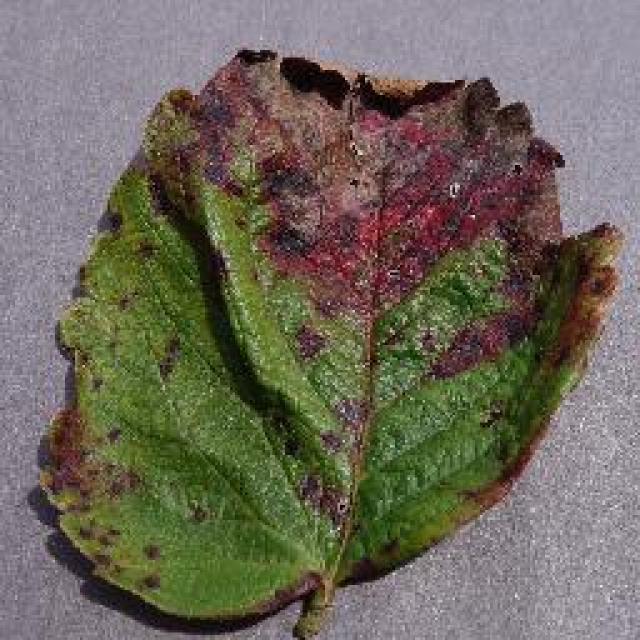Strawberry leaf scorch: (190, 102, 502, 370)
